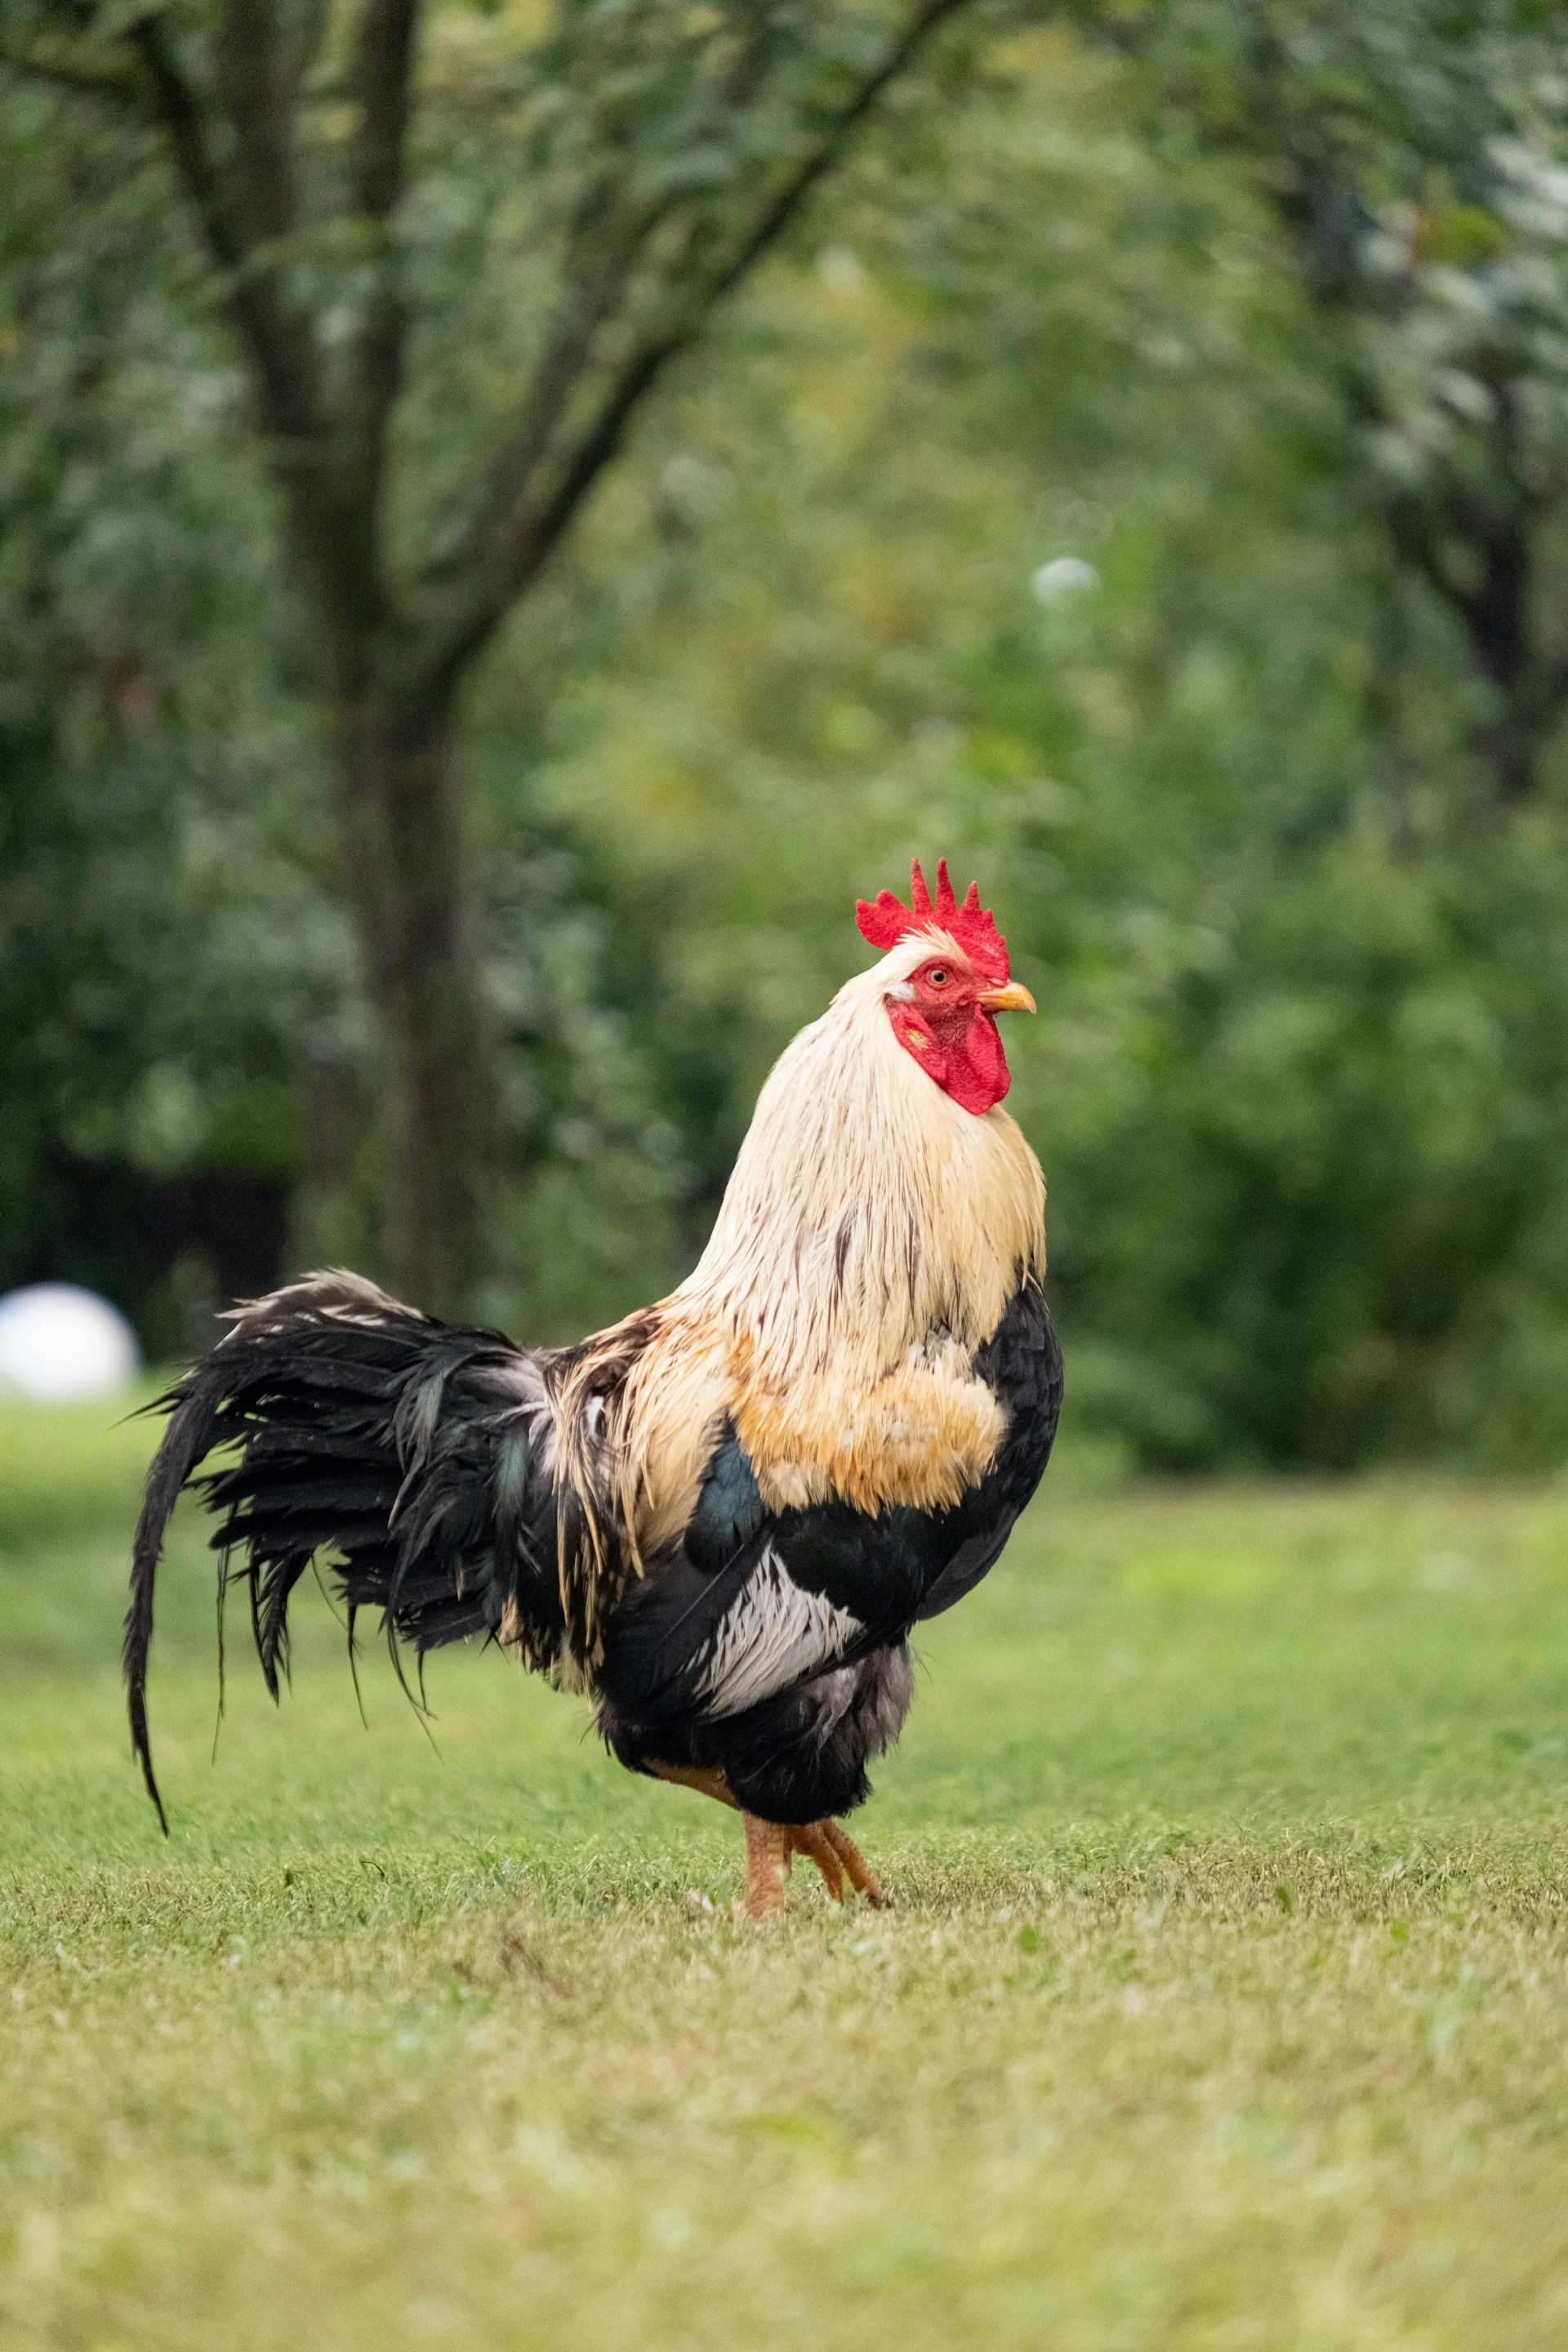hen: (103, 829, 1221, 1962)
